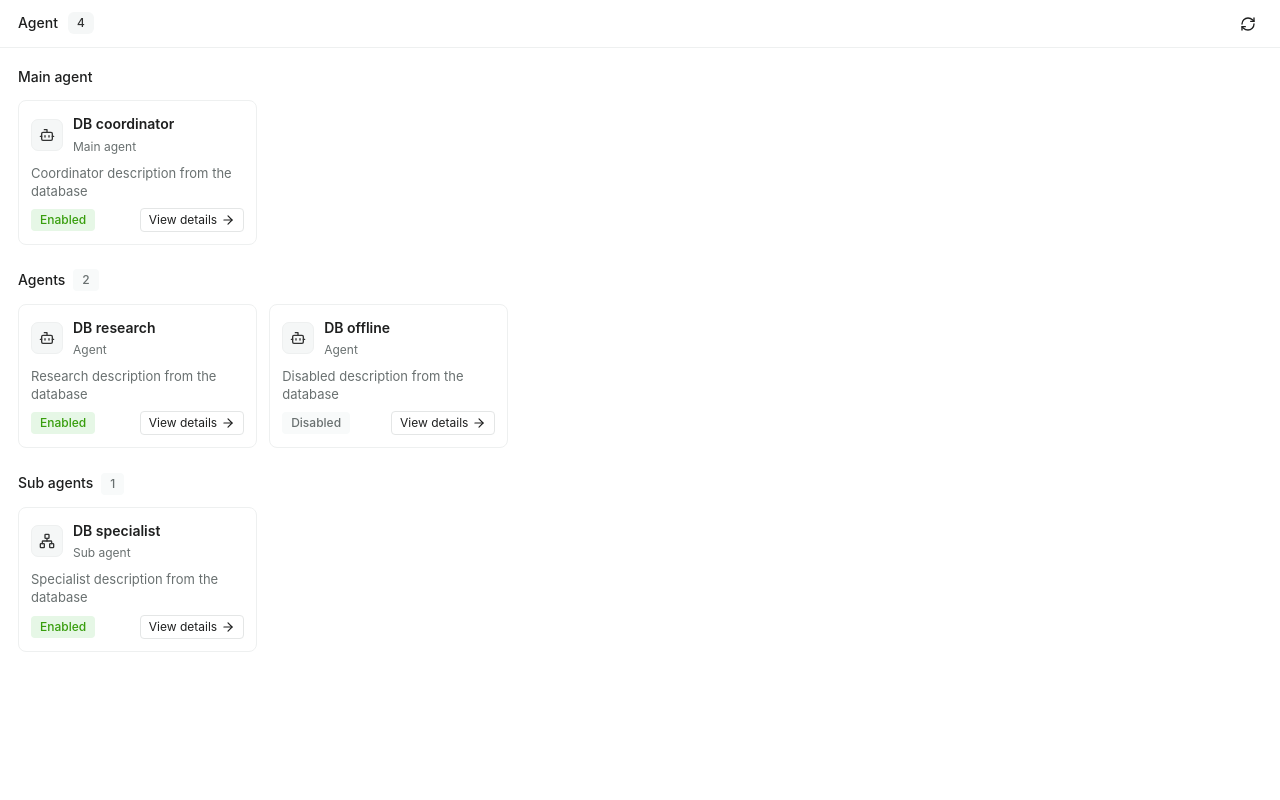
Test: allows inspecting disabled agents and separately opens subagent details
Click the button named "View DB offline details". click: (389, 376)
box: [270, 305, 507, 447]
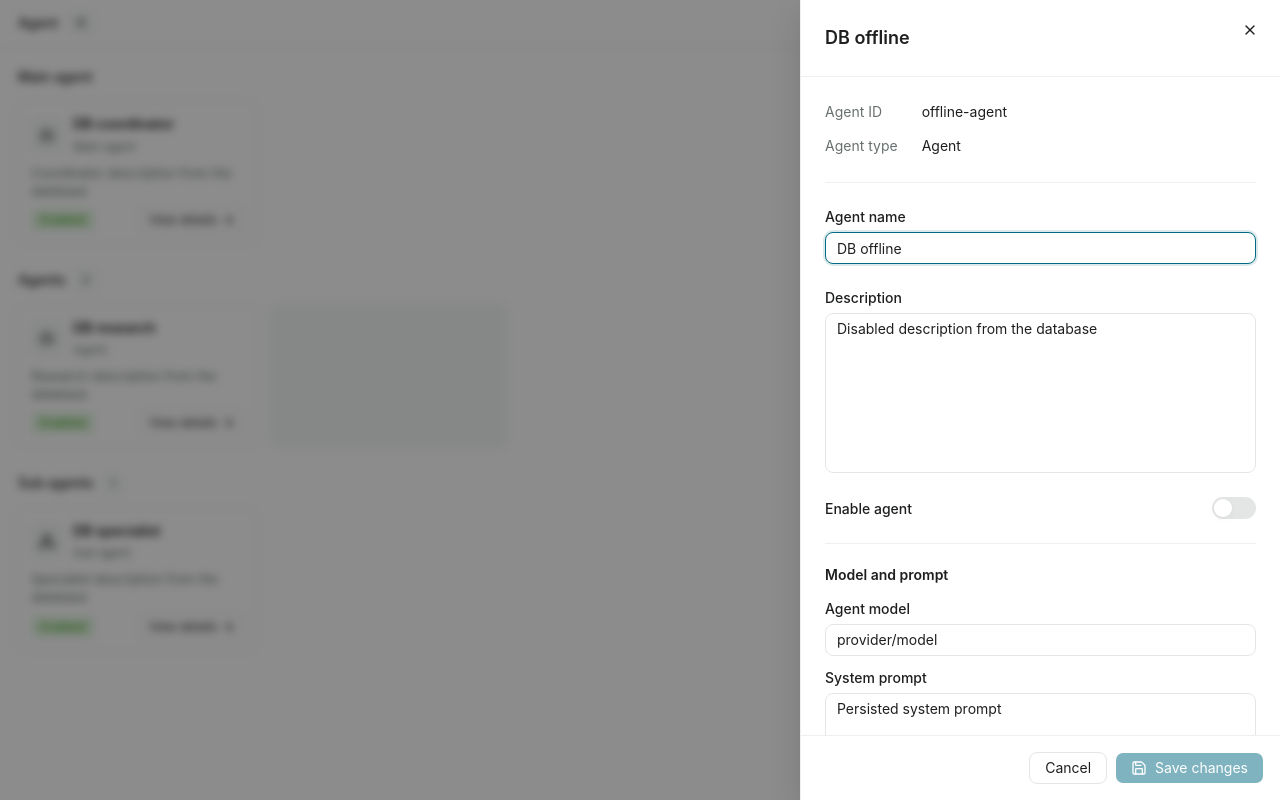
Expected: the text box labelled "Description" holds "Disabled description from the database", [825, 313, 1256, 473]
Expected: the text "offline-agent" is shown, [922, 103, 1007, 120]
Expected: the text "Agent" is shown, [922, 137, 961, 154]
Click the button named "Close". click: (1250, 30)
box: [1236, 16, 1264, 44]
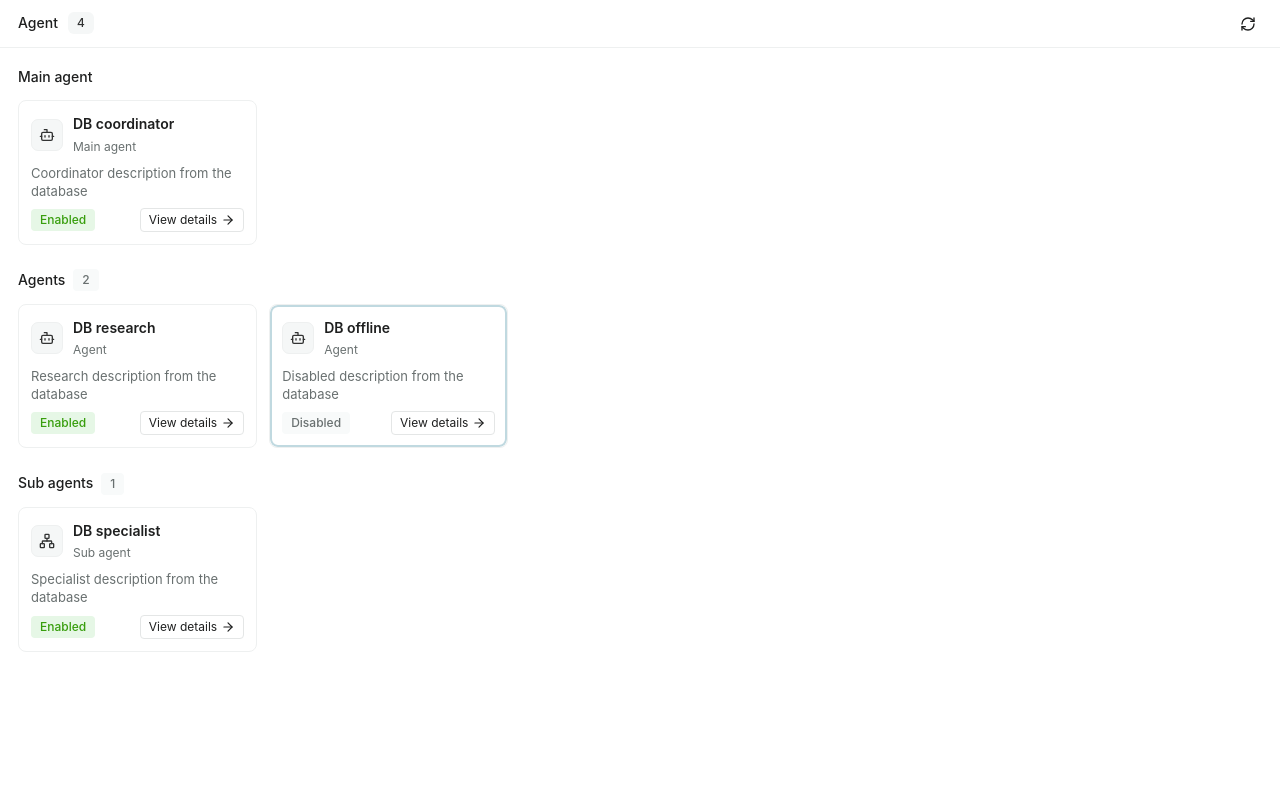
Expected: the dialog is gone
Click the button named "View DB specialist details". click: (138, 579)
box: [19, 508, 256, 650]
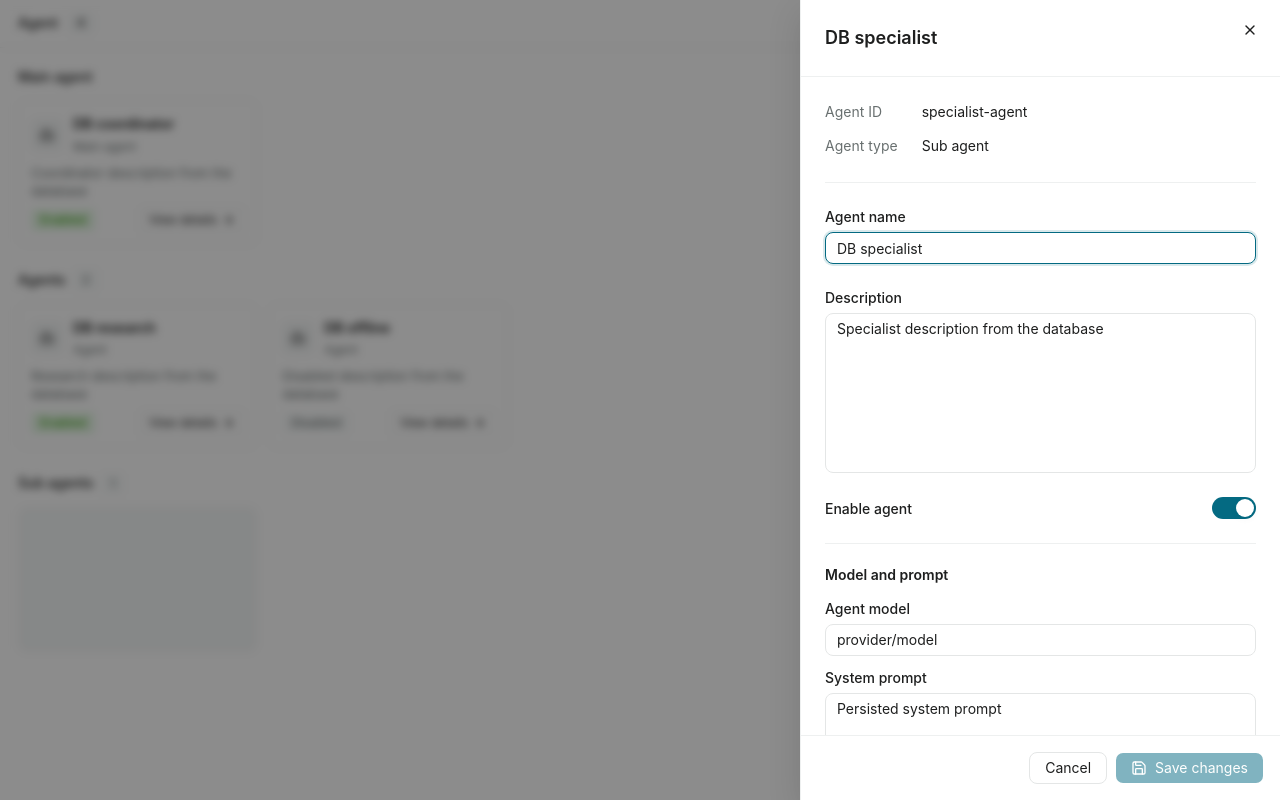
Expected: the text box labelled "Description" holds "Specialist description from the database", [825, 313, 1256, 473]
Expected: the text "specialist-agent" is shown, [922, 103, 1028, 120]
Expected: the text "Sub agent" is shown, [922, 137, 989, 154]
Click the button named "Close". click: (1250, 30)
box: [1236, 16, 1264, 44]
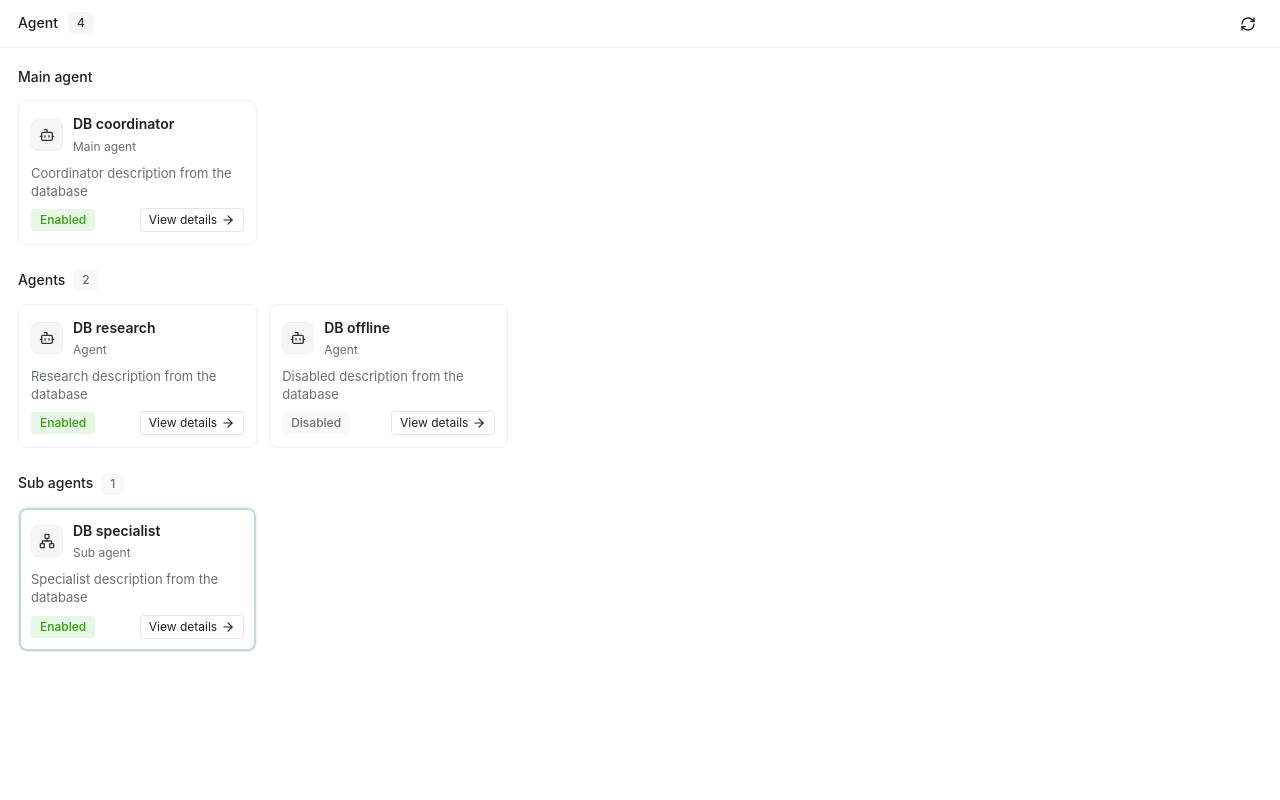
Expected: the dialog is gone
